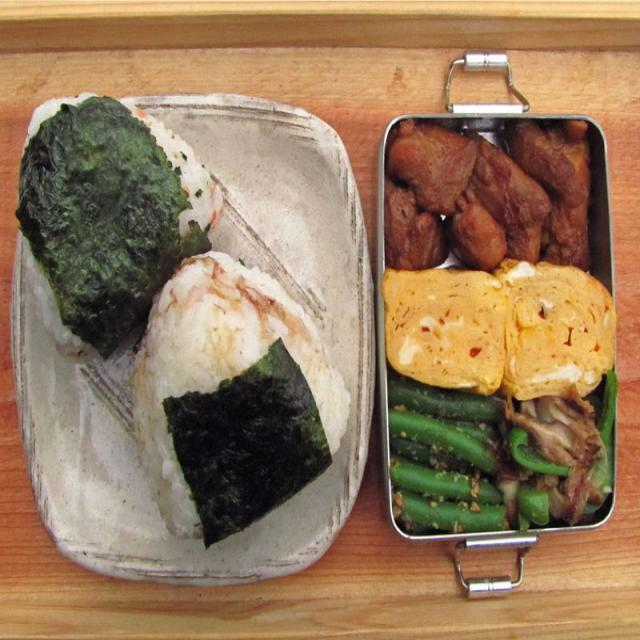米饭主食: (129, 236, 361, 547), (6, 76, 236, 373)
鸡蛋料理: (376, 256, 621, 401)
